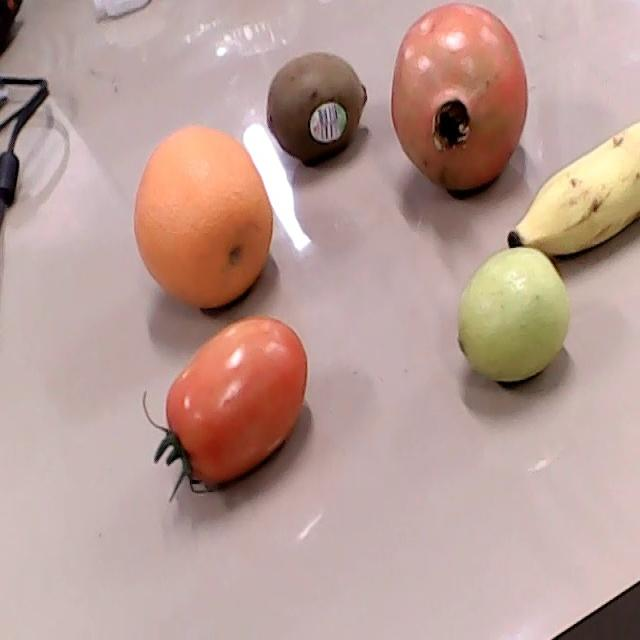kiwi: (267, 52, 369, 161)
lemon: (458, 246, 570, 383)
orange: (134, 126, 274, 309)
pomegranate: (390, 3, 528, 191)
tomato: (142, 316, 308, 502)
